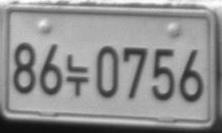0: (95, 44, 119, 98)
5: (151, 48, 176, 101)
6: (178, 48, 204, 103), (39, 43, 63, 95)
7: (122, 46, 148, 99)
8: (11, 41, 36, 94)
누: (65, 53, 89, 97)
